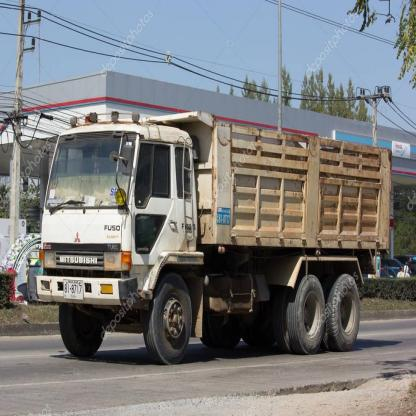truck: (34, 112, 390, 362)
